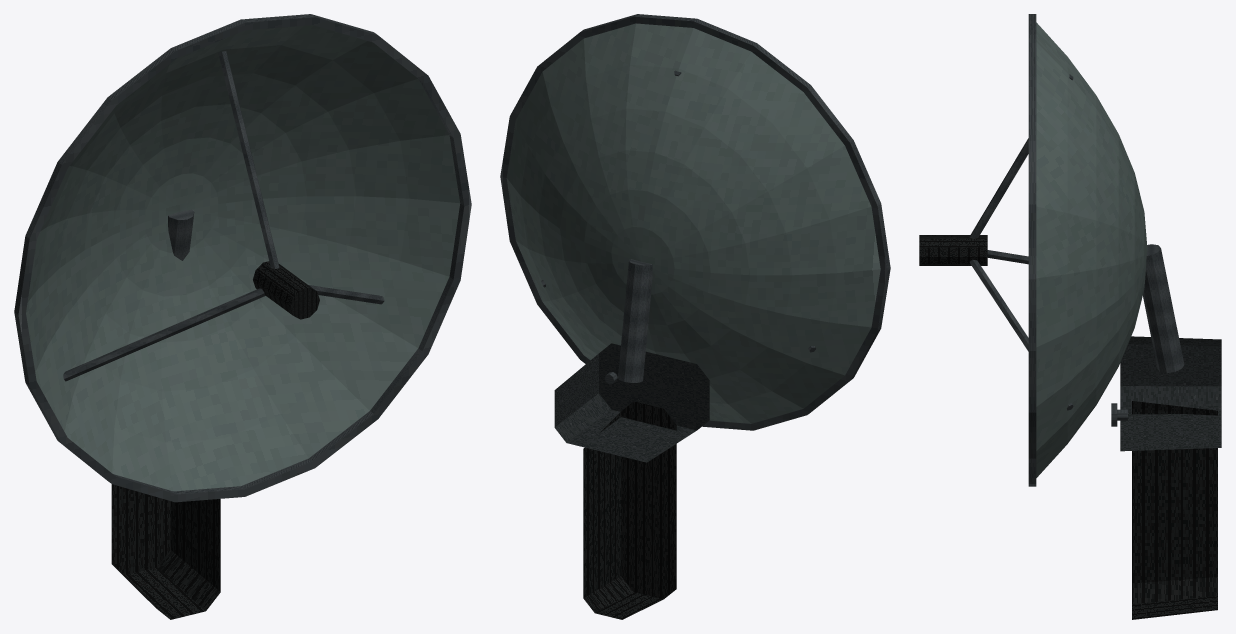
The model's file is blender_parabolic_microphone_2.glb.
The picture shows the model from 3 angles, left to right: view 1: azimuth 30°, elevation 25°; view 2: azimuth 150°, elevation 25°; view 3: azimuth 270°, elevation 25°; orthographic projection. The views are drawn at different scales.
Parts seen in each view (by area): view 1: blender_parabolic_microphone_2; view 2: blender_parabolic_microphone_2; view 3: blender_parabolic_microphone_2.
Part boxes in pixels (bbox=[...]): blender_parabolic_microphone_2: bbox=[14, 14, 471, 619]; blender_parabolic_microphone_2: bbox=[500, 14, 890, 619]; blender_parabolic_microphone_2: bbox=[919, 14, 1221, 619].
Size of the model in its own units: 0.244 by 0.3265 by 0.155.
5 materials, 5 textured.
